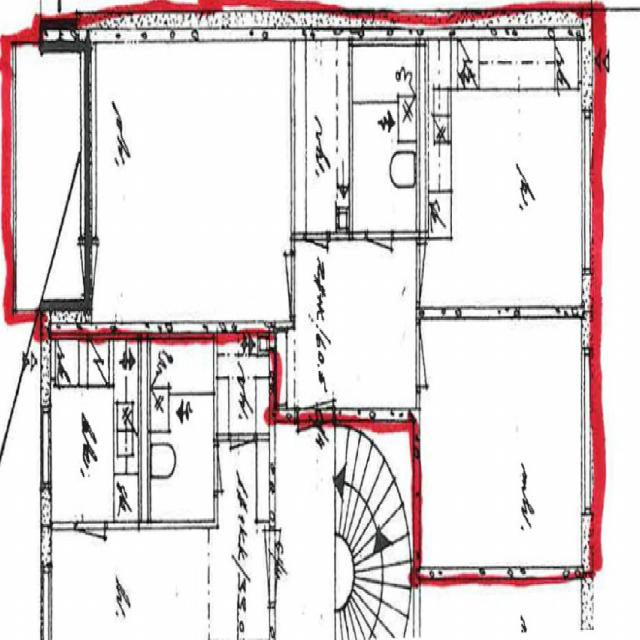door: (298, 337, 333, 422), (298, 407, 333, 492), (415, 323, 451, 386), (260, 253, 294, 315), (415, 243, 450, 303), (83, 243, 118, 294), (58, 243, 92, 294), (367, 231, 391, 289), (306, 231, 328, 283)
